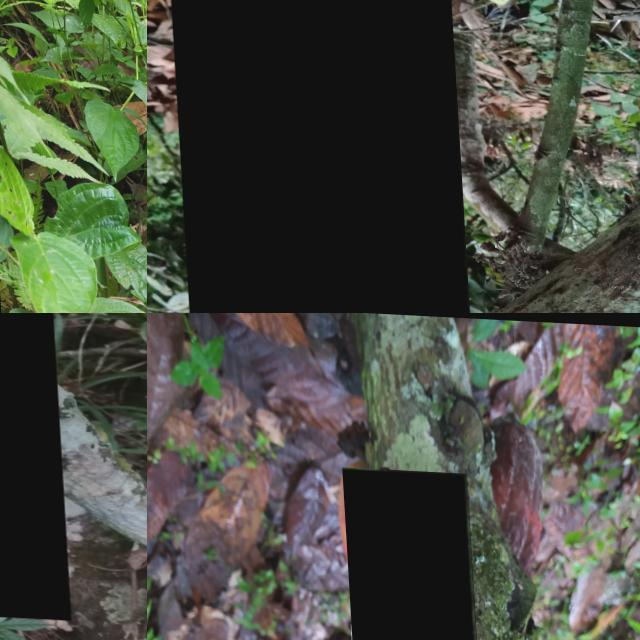Monilia: (167, 0, 471, 313), (340, 464, 484, 640), (0, 313, 64, 615)
